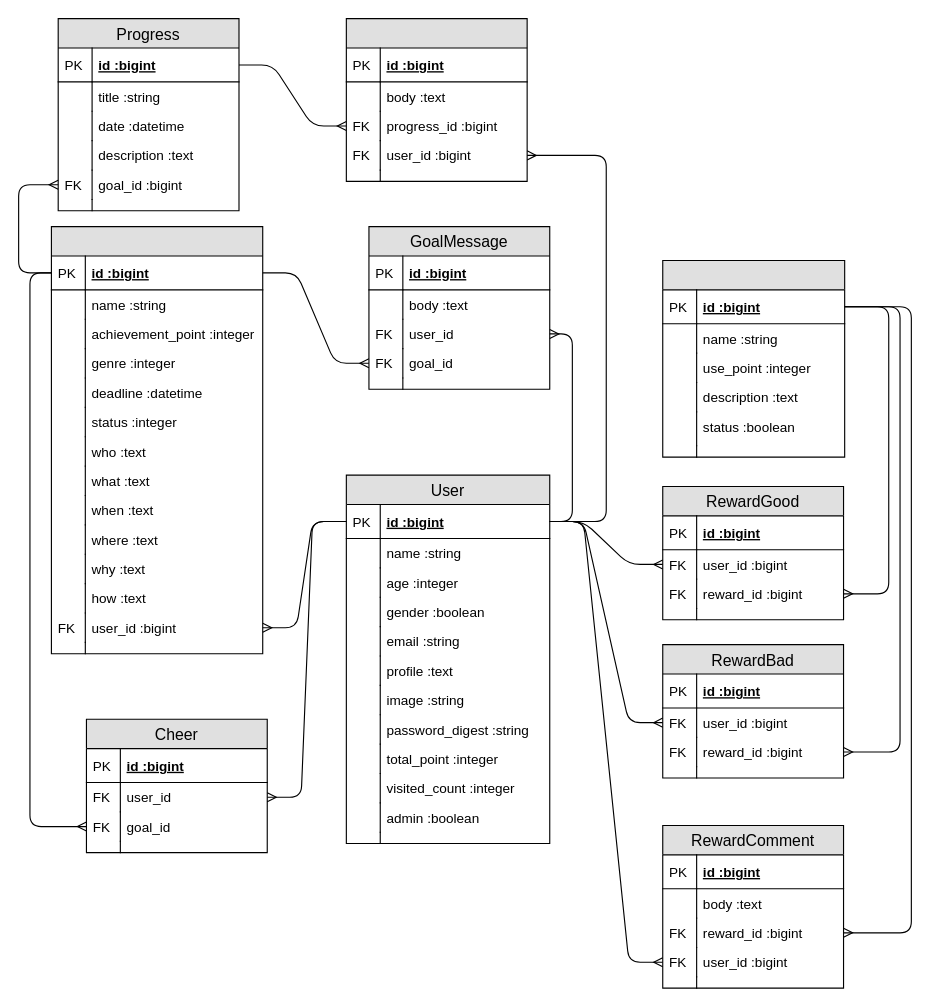
This 930x1007 diagram has some shape labels left out. Each missing label, with the box of its shape:
Goal: (50, 225, 263, 654)
ProgressMessage: (345, 18, 527, 181)
Reward: (662, 259, 845, 457)
